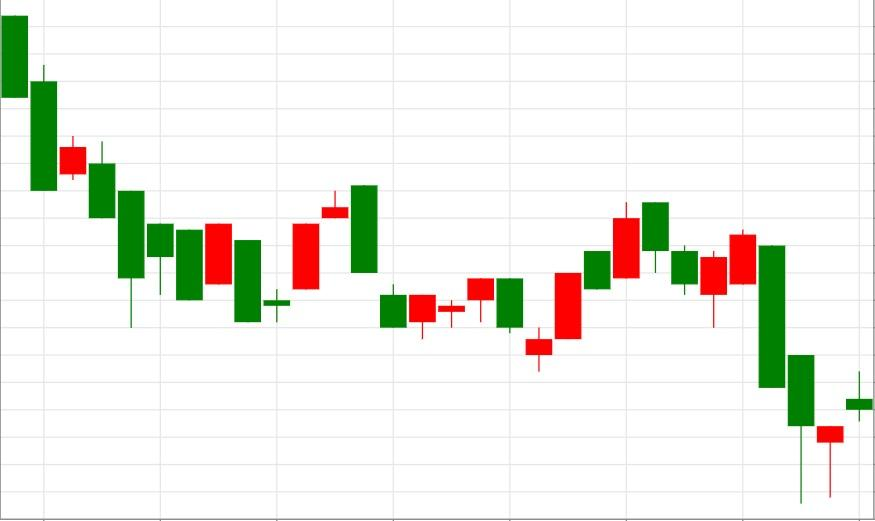bearish_engulfing_fall: (234, 185, 378, 322), (380, 278, 524, 339)
